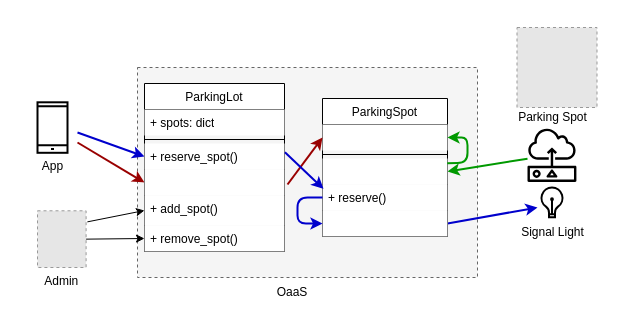
The diagram is 644 pixels wide and 324 high, and some of its shapes have lost their labels. Grey dashed boxes stand in for pictures. The box of each missing label's shape, as (x1, y1, x2, y2) in pixels:
+ get_available_count(): (144, 169, 284, 195)
+ status: str: (322, 124, 447, 150)
+ update_status(): (322, 158, 447, 184)
- turn_light(): (322, 210, 447, 236)
